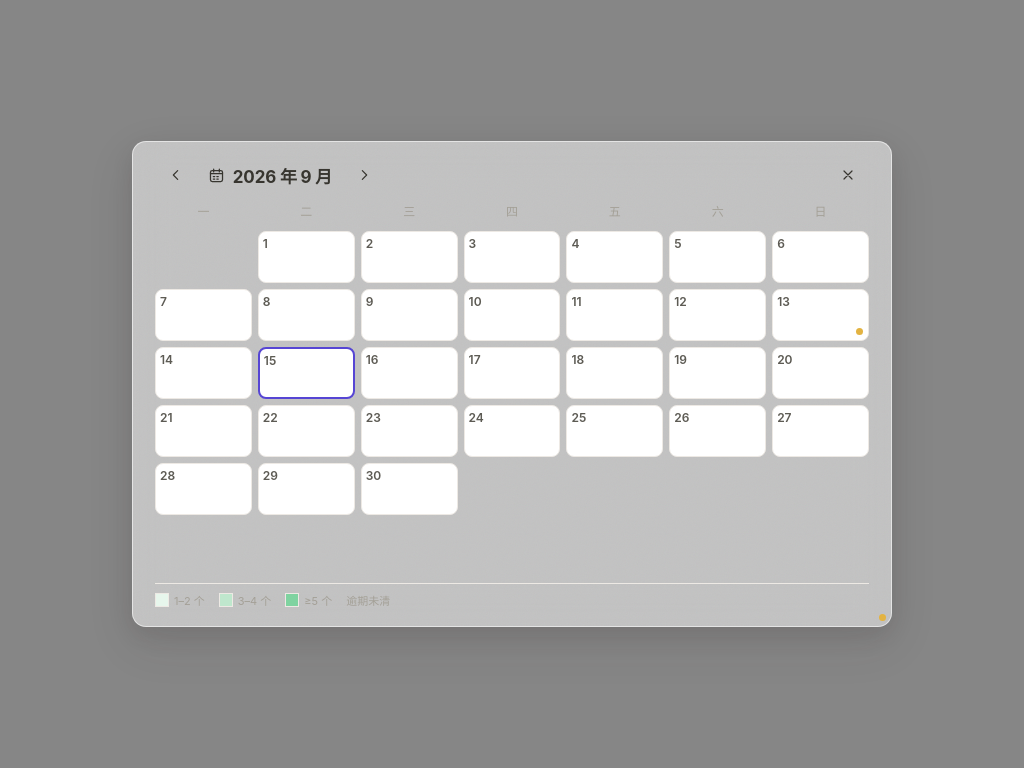
Test: CalendarOverlay 月视图 › 再次点击已选中的格子收起清单
The image size is (1024, 768).
Click the button "15". click: x=306, y=373
box: [258, 347, 355, 399]
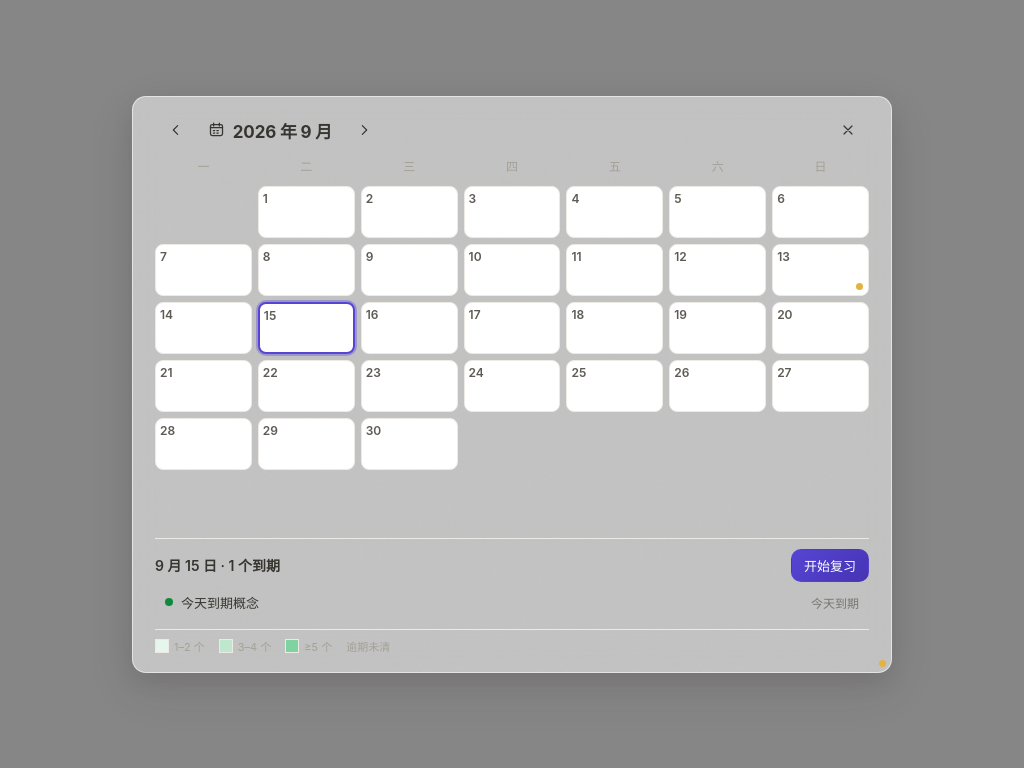
Expected: the text "今天到期概念" is shown, [181, 594, 259, 610]
Click the button "15". click: x=306, y=328
box: [258, 302, 355, 354]
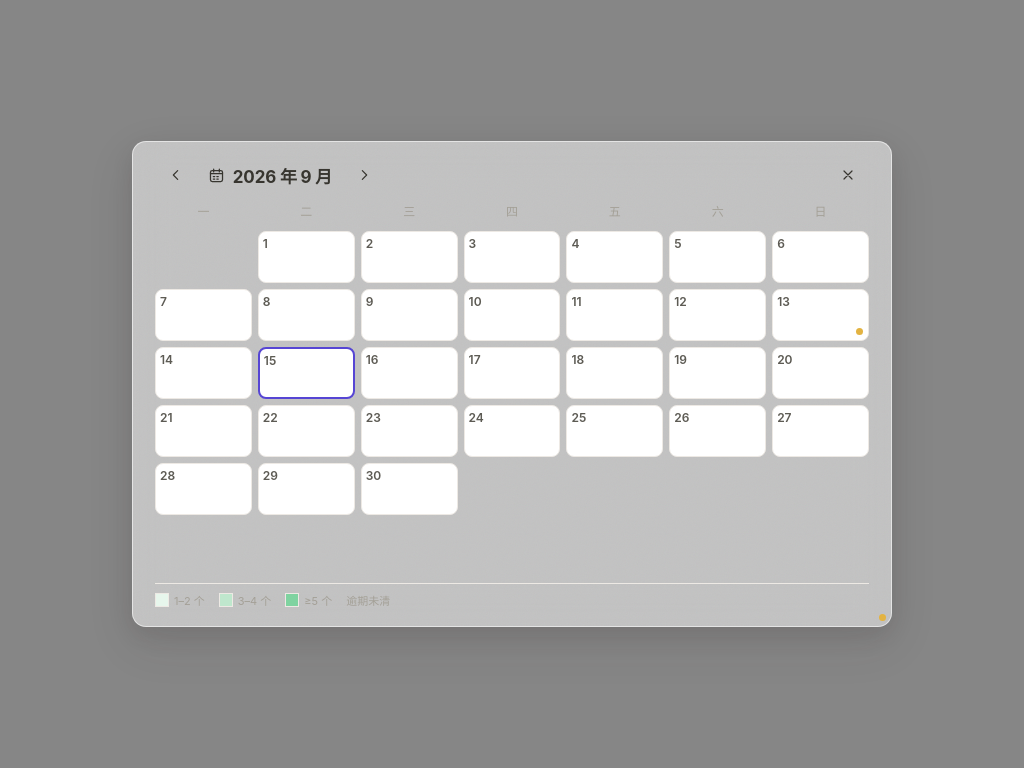
Expected: the button "今天到期概念" is gone
